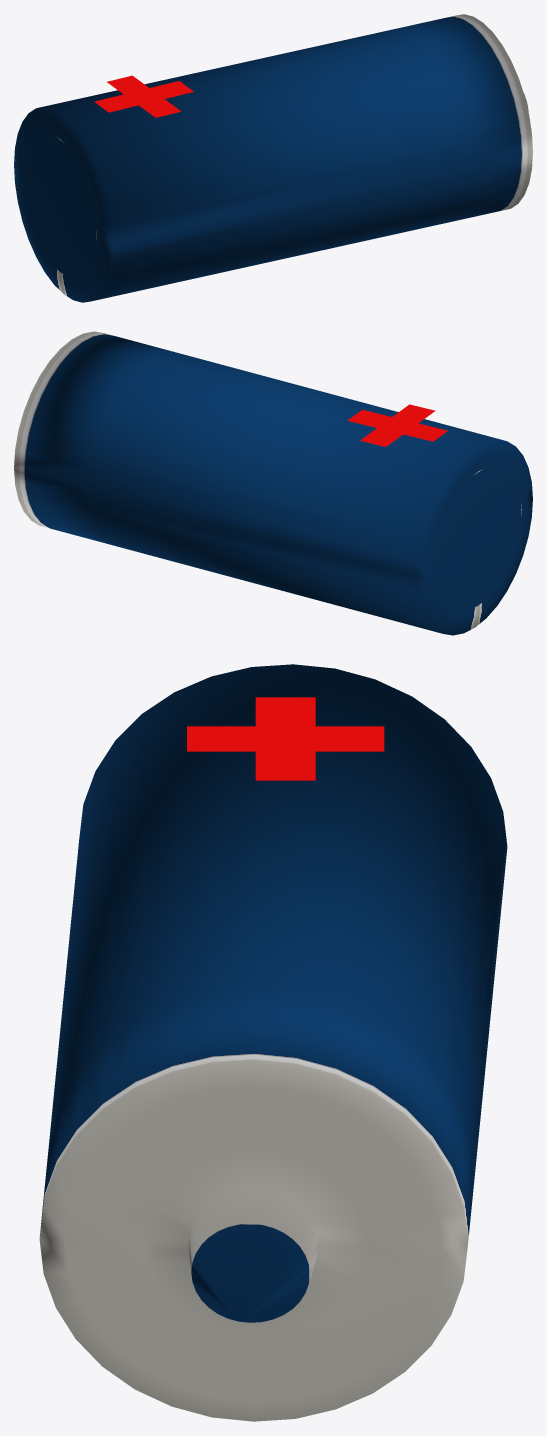
The model's file is battery 1.fbx.
The picture shows the model from 3 angles, top to bottom: view 1: azimuth 30°, elevation 25°; view 2: azimuth 150°, elevation 25°; view 3: azimuth 270°, elevation 25°; orthographic projection. The views are drawn at different scales.
Visible parts, largest first — view 1: Plane.001; view 2: Plane.001; view 3: Plane.001.
Boxes of the visible parts, box(x1,y1,x2,y2) form: Plane.001: box(14, 14, 532, 302); Plane.001: box(14, 331, 532, 635); Plane.001: box(39, 664, 507, 1421).
Size of the model in its own units: 483 by 185 by 218.
2 materials, 2 textured.
